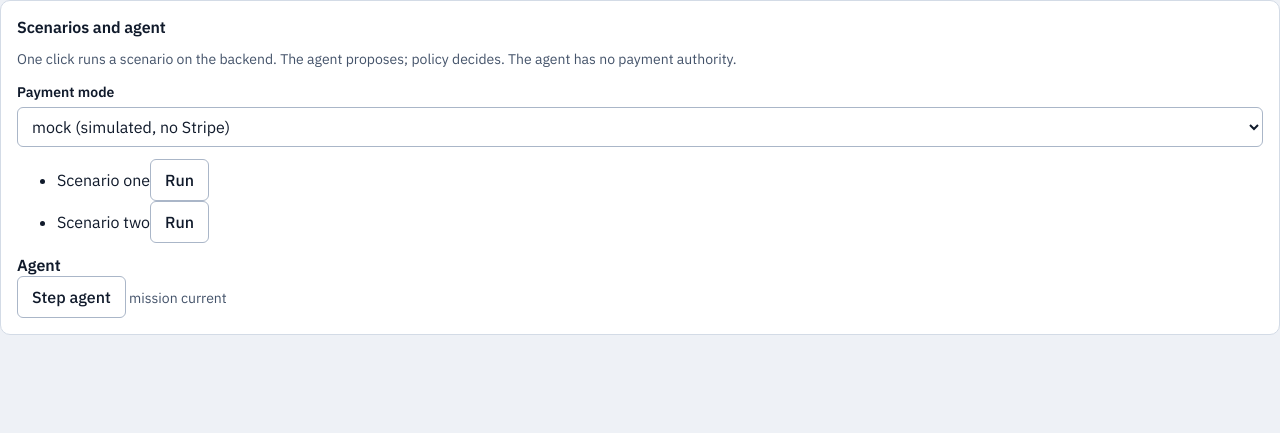
Test: ScenariosPanel › runs a scenario with the chosen mode and reports the run
The image size is (1280, 433).
Select "stripe_test (Stripe test mode)" in the dropdown labelled "Payment mode" at (640, 127), box [17,107,1263,147]
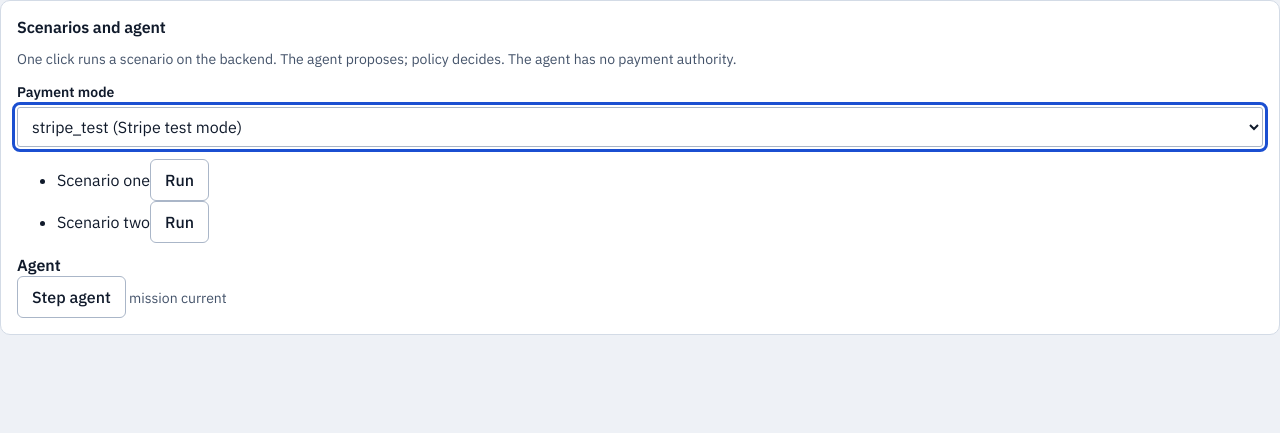
Click the button "Run" next to "Scenario two" at (180, 222), box [150,201,209,243]
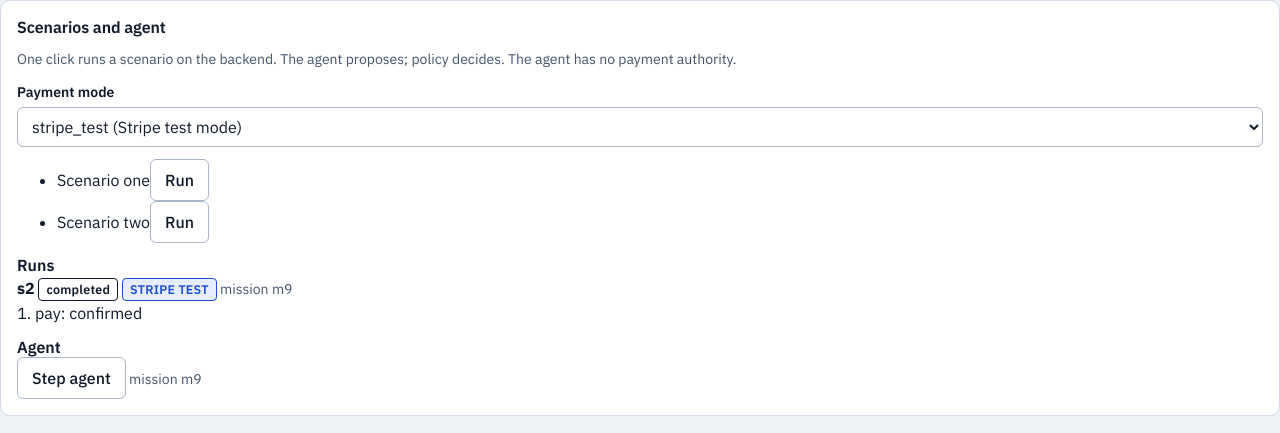
expect the text "completed" is shown: met, box [38,278,118,300]
expect the text "STRIPE TEST" is shown: met, box [122,278,217,300]
